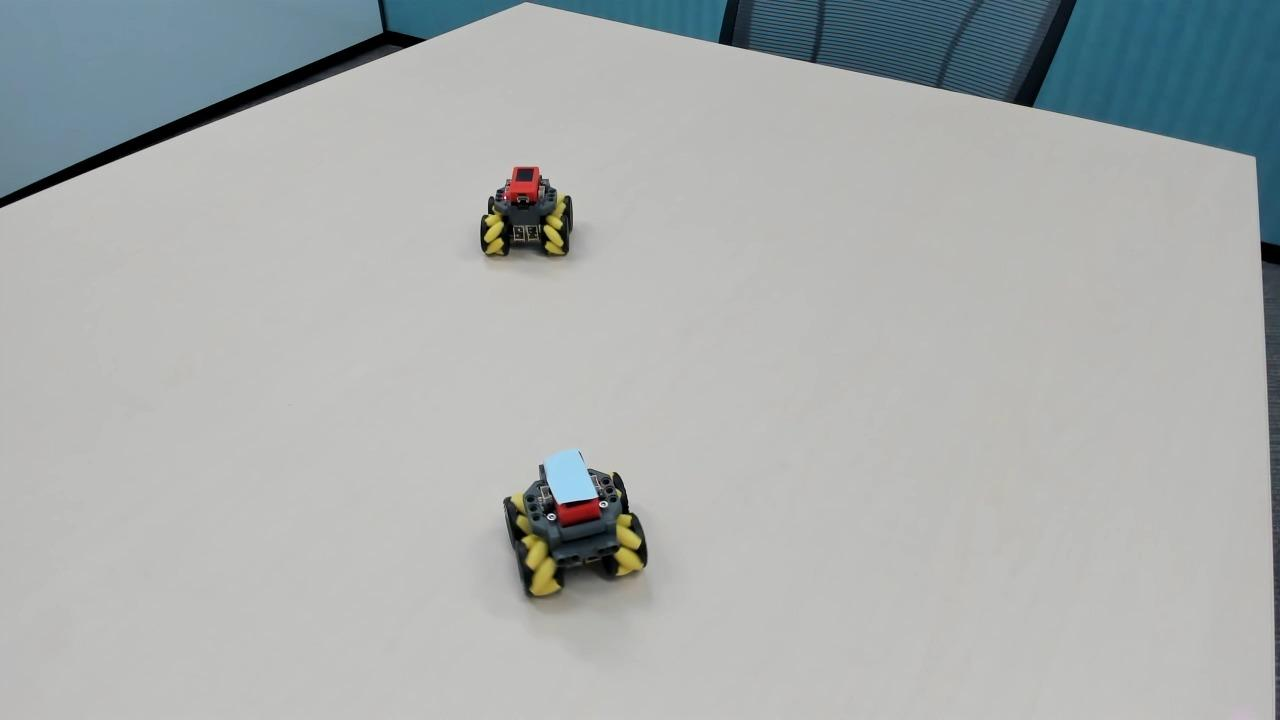B-Robot: (492, 434, 662, 620)
R-Robot: (465, 151, 584, 270)
